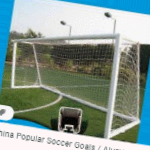goals: (12, 32, 140, 138)
